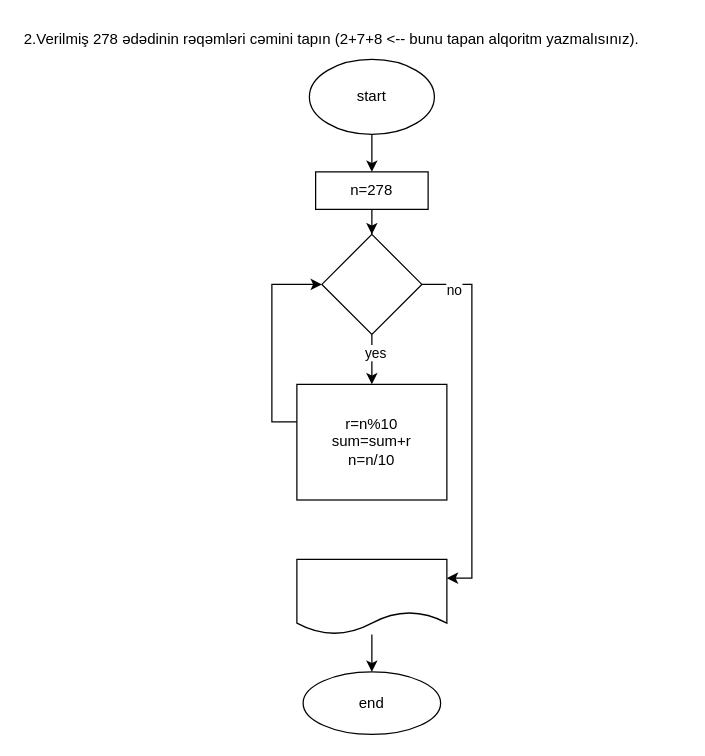
The diagram is 705 pixels wide and 756 high, and some of its shapes have lost their labels. The shapes that lost their labels are listed below. From the top down, each one's centre as x and y in pixels, then its label:
At point (371, 283): "n>0".
At point (371, 596): "sum".
